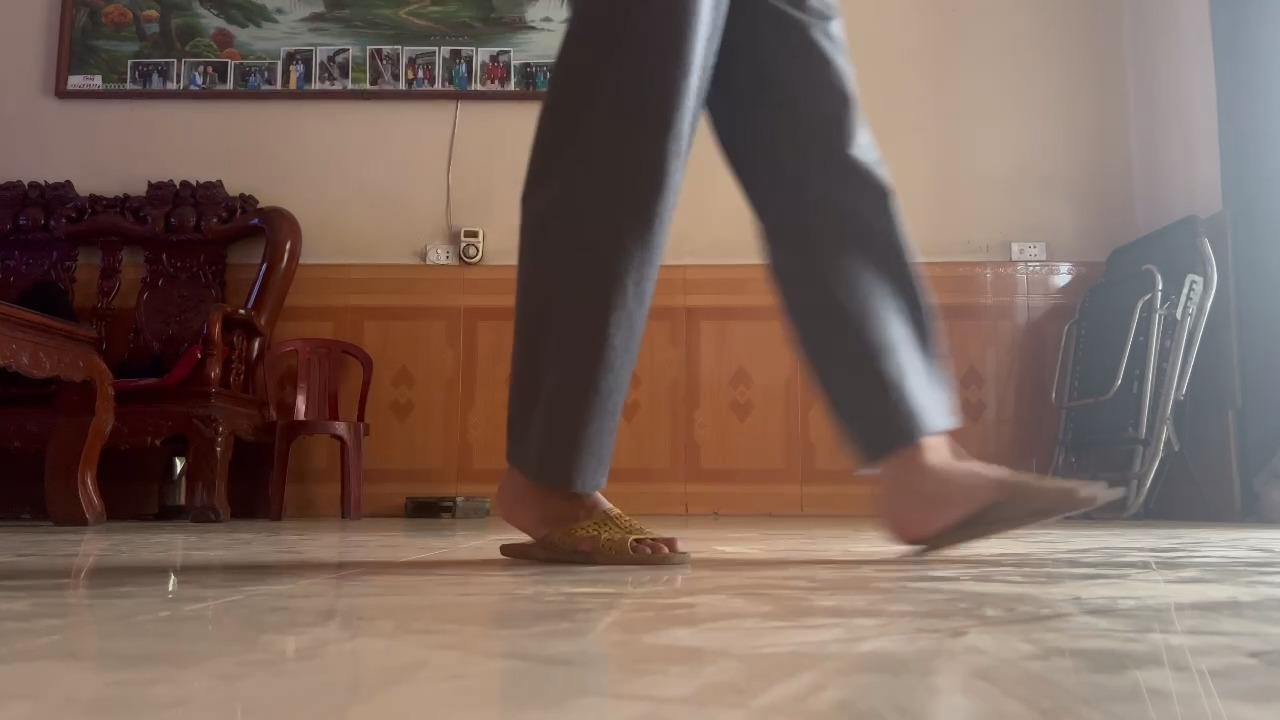no-boot: (866, 473, 1140, 569), (489, 473, 698, 575)
